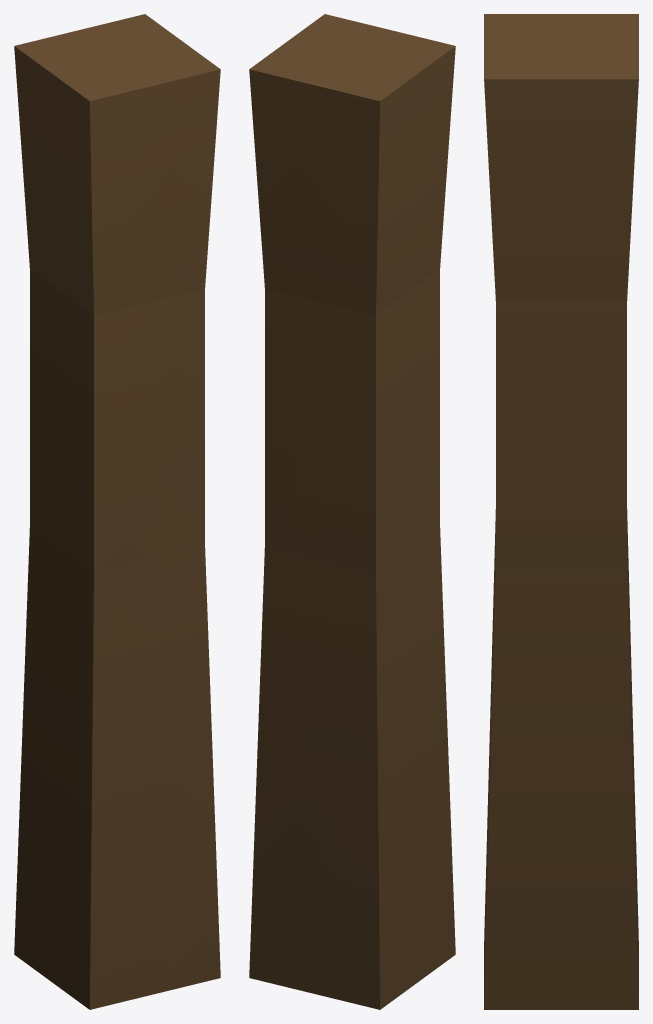
Rendered from Beam001.fbx.
3 views of the same model, side by side, from view 1: azimuth 30°, elevation 25°; view 2: azimuth 150°, elevation 25°; view 3: azimuth 270°, elevation 25° (orthographic). The views are drawn at different scales.
Parts seen in each view (by area): view 1: Cube.039; view 2: Cube.039; view 3: Cube.039.
Part boxes in pixels (x1,y1,x2,y2): Cube.039: [14, 14, 220, 1009]; Cube.039: [249, 14, 455, 1009]; Cube.039: [484, 14, 638, 1009].
Bounding box in the file's own units: 65.76 × 436 × 65.76.
